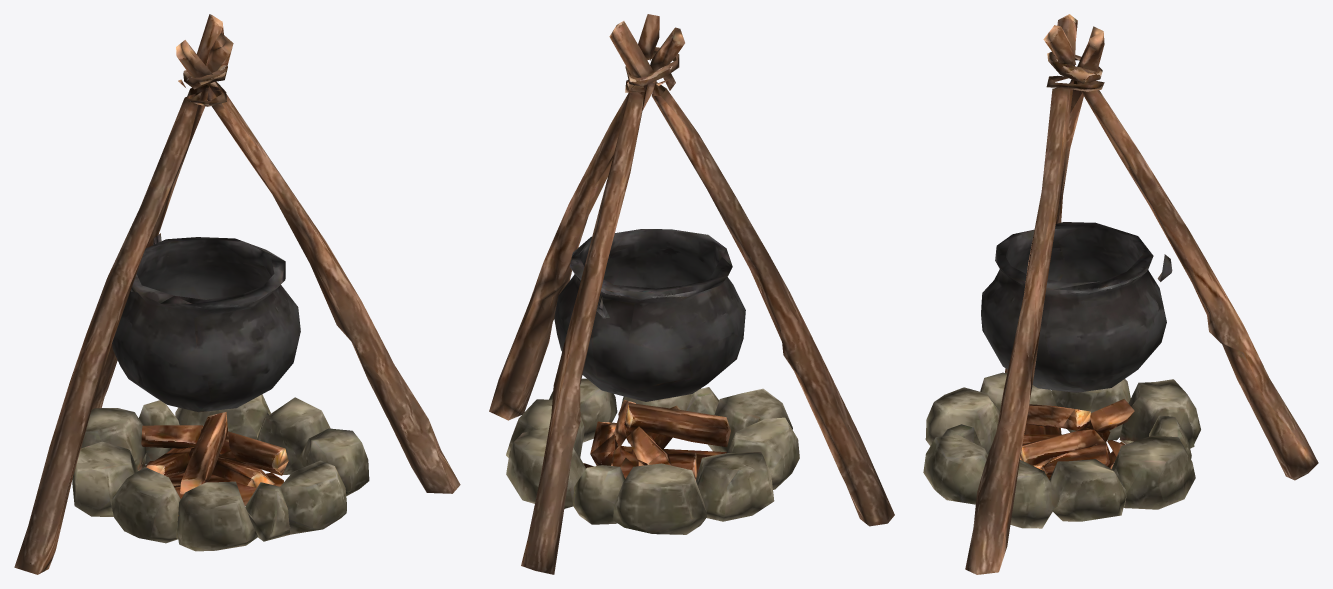
The model's file is cauldron.glb.
3 renders of one model, left to right at view 1: azimuth 30°, elevation 25°; view 2: azimuth 150°, elevation 25°; view 3: azimuth 270°, elevation 25°, orthographic. The views are drawn at different scales.
Visible parts, largest first — view 1: cauldron.raw; view 2: cauldron.raw; view 3: cauldron.raw.
Boxes of the visible parts, box(x1,y1,x2,y2) form: cauldron.raw: box(14, 14, 460, 574); cauldron.raw: box(489, 14, 894, 574); cauldron.raw: box(923, 14, 1318, 574).
Bounding box in the file's own units: 1.57 × 1.7 × 1.31.
Materials: 1 (1 with a texture image).
